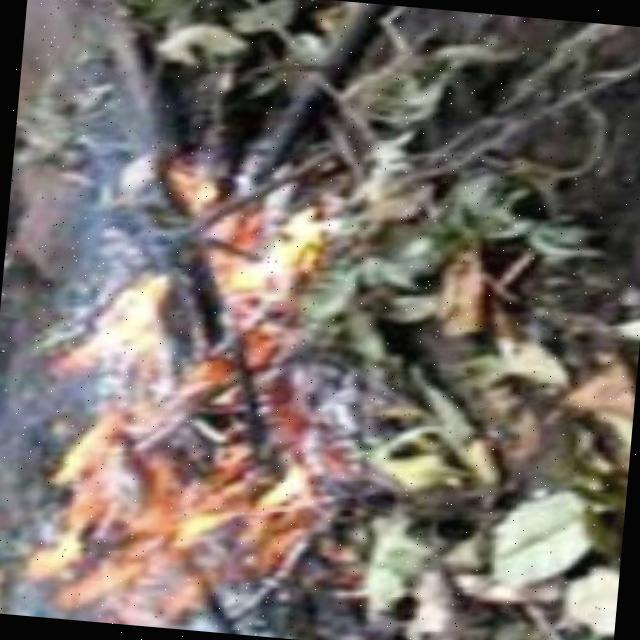fire: (8, 185, 316, 637)
